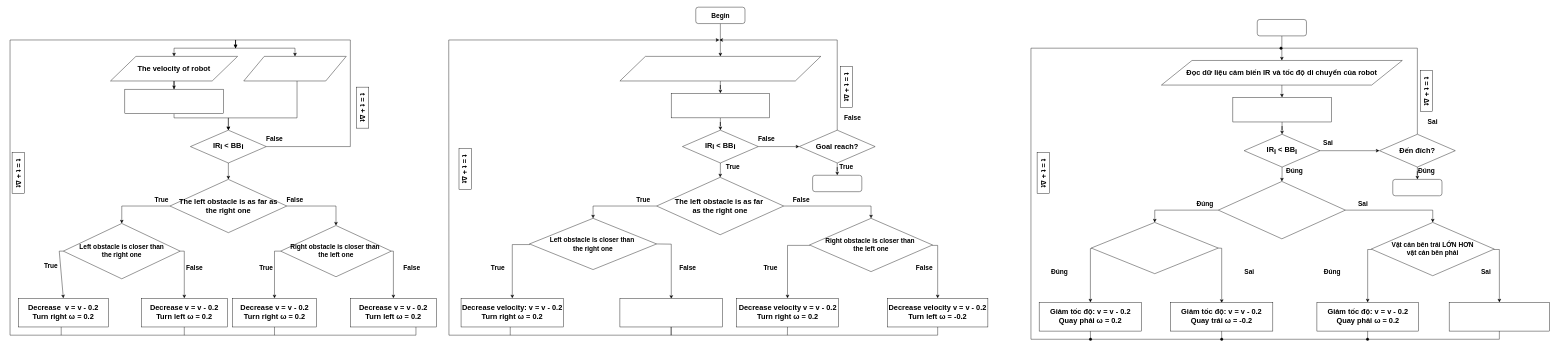
The diagram is 1557 pixels wide and 350 high, and some of its shapes have lost their labels. The centre of each missing label's shape, as x and y in pixels:
Bắt đầu: point (1281, 27)
Calculate the size of Bubble boundary: point (720, 105)
Calculate the size of bubble boundary BB: point (173, 101)
Data from IR sensor: point (294, 68)
Decrease velocity: v = v - 0.2 Turn left ω = -0.2: point (671, 312)
Dừng: point (1417, 187)
End: point (837, 183)
Giảm tốc độ v = v - 0.2 Quay trái ω = -0.2: point (1499, 316)
Read IR sensors data and transfer velocity data: point (720, 68)
Tính kích thước Bong bóng phản ứng: point (1281, 109)
Vật cản bên trái BẰNG vật cản bên phải: point (1281, 210)
Vật cản bên trái GẦN HƠN vật cản bên phải: point (1154, 248)
